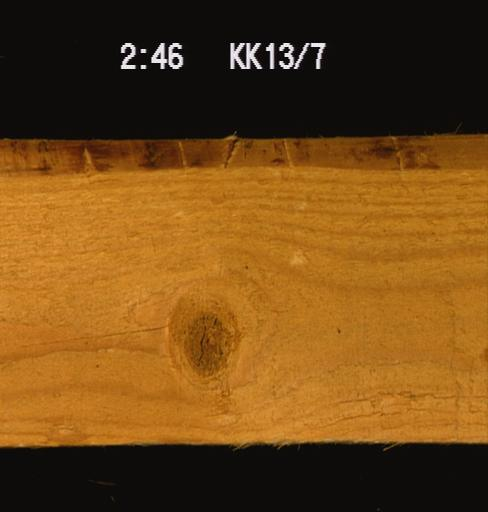sound_knot: (171, 290, 238, 387)
split: (0, 324, 172, 349)
wave: (0, 138, 486, 174)
